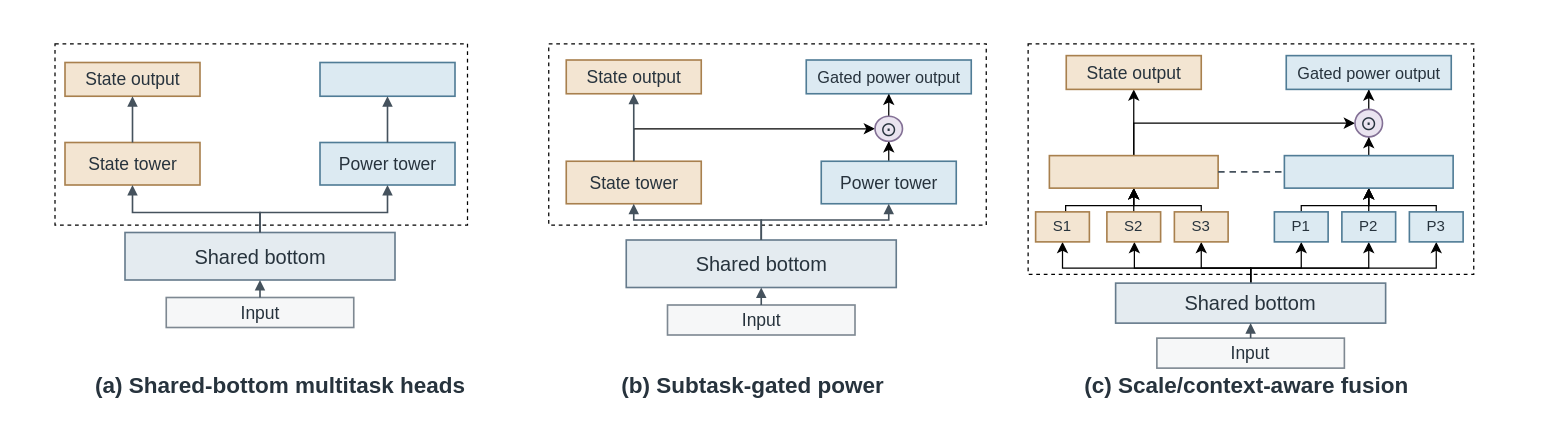
Image size: 1566x425. Some labels were removed from this diagram. Each missing label, with the centre of its shape:
Power fusion: the point at 1368,171
Power output: the point at 387,78
State fusion: the point at 1133,171
